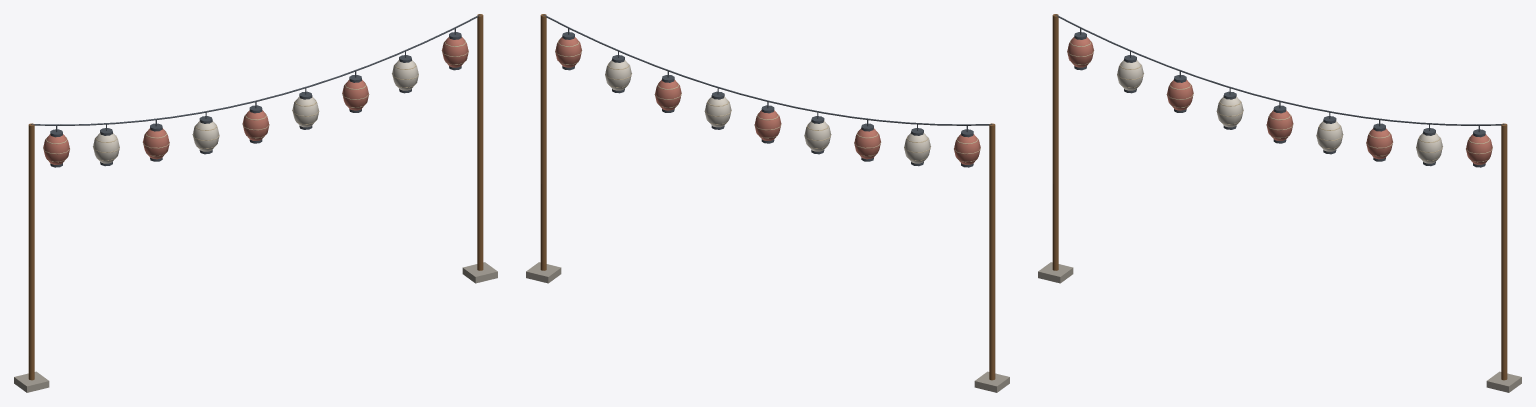
Rendered from komachi-lantern-string.glb.
3 views of the same model, side by side, from view 1: azimuth 30°, elevation 25°; view 2: azimuth 150°, elevation 25°; view 3: azimuth 330°, elevation 25° (orthographic).
Parts seen in each view (by area): view 1: Lanterns, Poles_And_Cable; view 2: Lanterns, Poles_And_Cable; view 3: Lanterns, Poles_And_Cable.
Part boxes in pixels (x1,y1,x2,y2): Lanterns: (43,28,468,167); Poles_And_Cable: (14,14,497,392); Lanterns: (555,28,980,167); Poles_And_Cable: (526,14,1009,392); Lanterns: (1067,28,1492,167); Poles_And_Cable: (1038,14,1521,392).
Size of the model in its own units: 1.89 by 1 by 0.0913.
